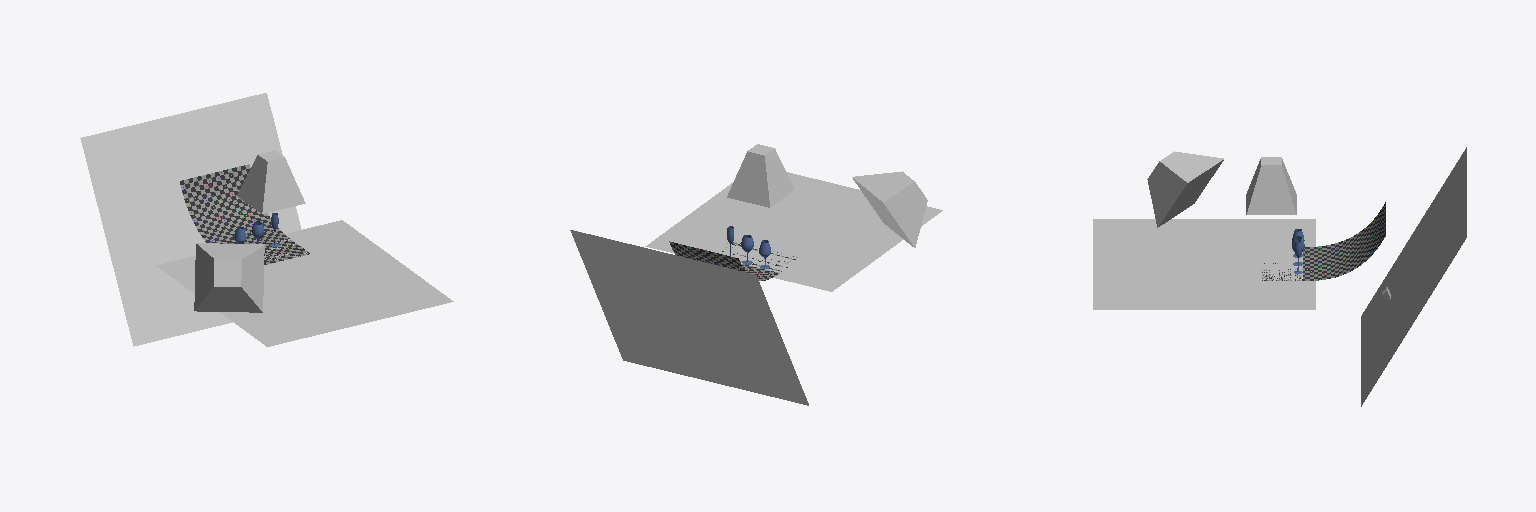
The picture shows the model from 3 angles: view 1: azimuth 30°, elevation 25°; view 2: azimuth 150°, elevation 25°; view 3: azimuth 270°, elevation 25°; orthographic projection.
Parts seen in each view (by area): view 1: Plane.001, Plane, BezierCurve_Mesh, Cube.001, Cube; view 2: Plane.001, Plane, Cube.001, Cube, BezierCurve_Mesh; view 3: Plane, Plane.001, Cube.001, BezierCurve_Mesh, Cube.
Part boxes in pixels (x1,y1,x2,y2): Plane.001: (80, 93, 301, 346); Plane: (156, 220, 453, 346); BezierCurve_Mesh: (180, 164, 309, 264); Cube.001: (194, 243, 264, 312); Cube: (237, 150, 305, 213); Plane.001: (570, 230, 808, 405); Plane: (645, 172, 942, 291); Cube.001: (852, 171, 927, 247); Cube: (727, 144, 794, 207); BezierCurve_Mesh: (669, 241, 797, 280); Plane: (1093, 219, 1315, 309); Plane.001: (1361, 147, 1466, 406); Cube.001: (1147, 151, 1223, 227); BezierCurve_Mesh: (1262, 202, 1385, 280); Cube: (1246, 157, 1296, 214).
Bounding box in the file's own units: 4.63 × 4.25 × 7.18.
7 materials, 1 textured.